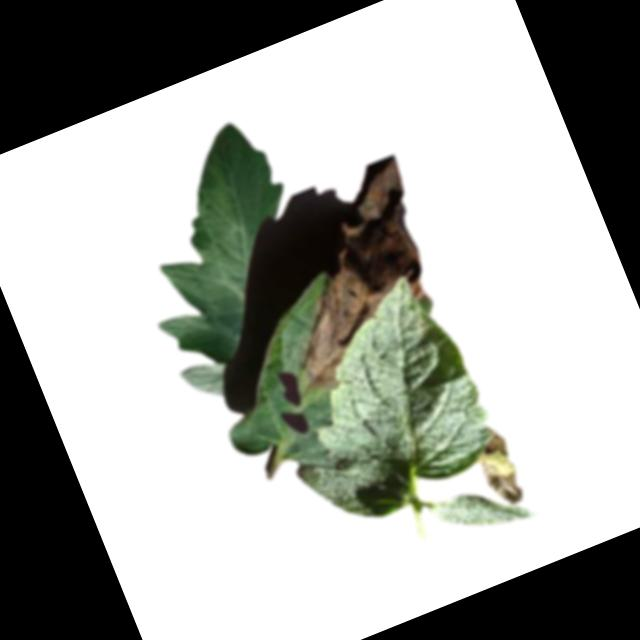Late_blight: (101, 112, 337, 379), (241, 158, 464, 392), (464, 424, 528, 510)
healthy: (274, 267, 503, 517), (295, 439, 405, 539), (427, 467, 540, 553)
